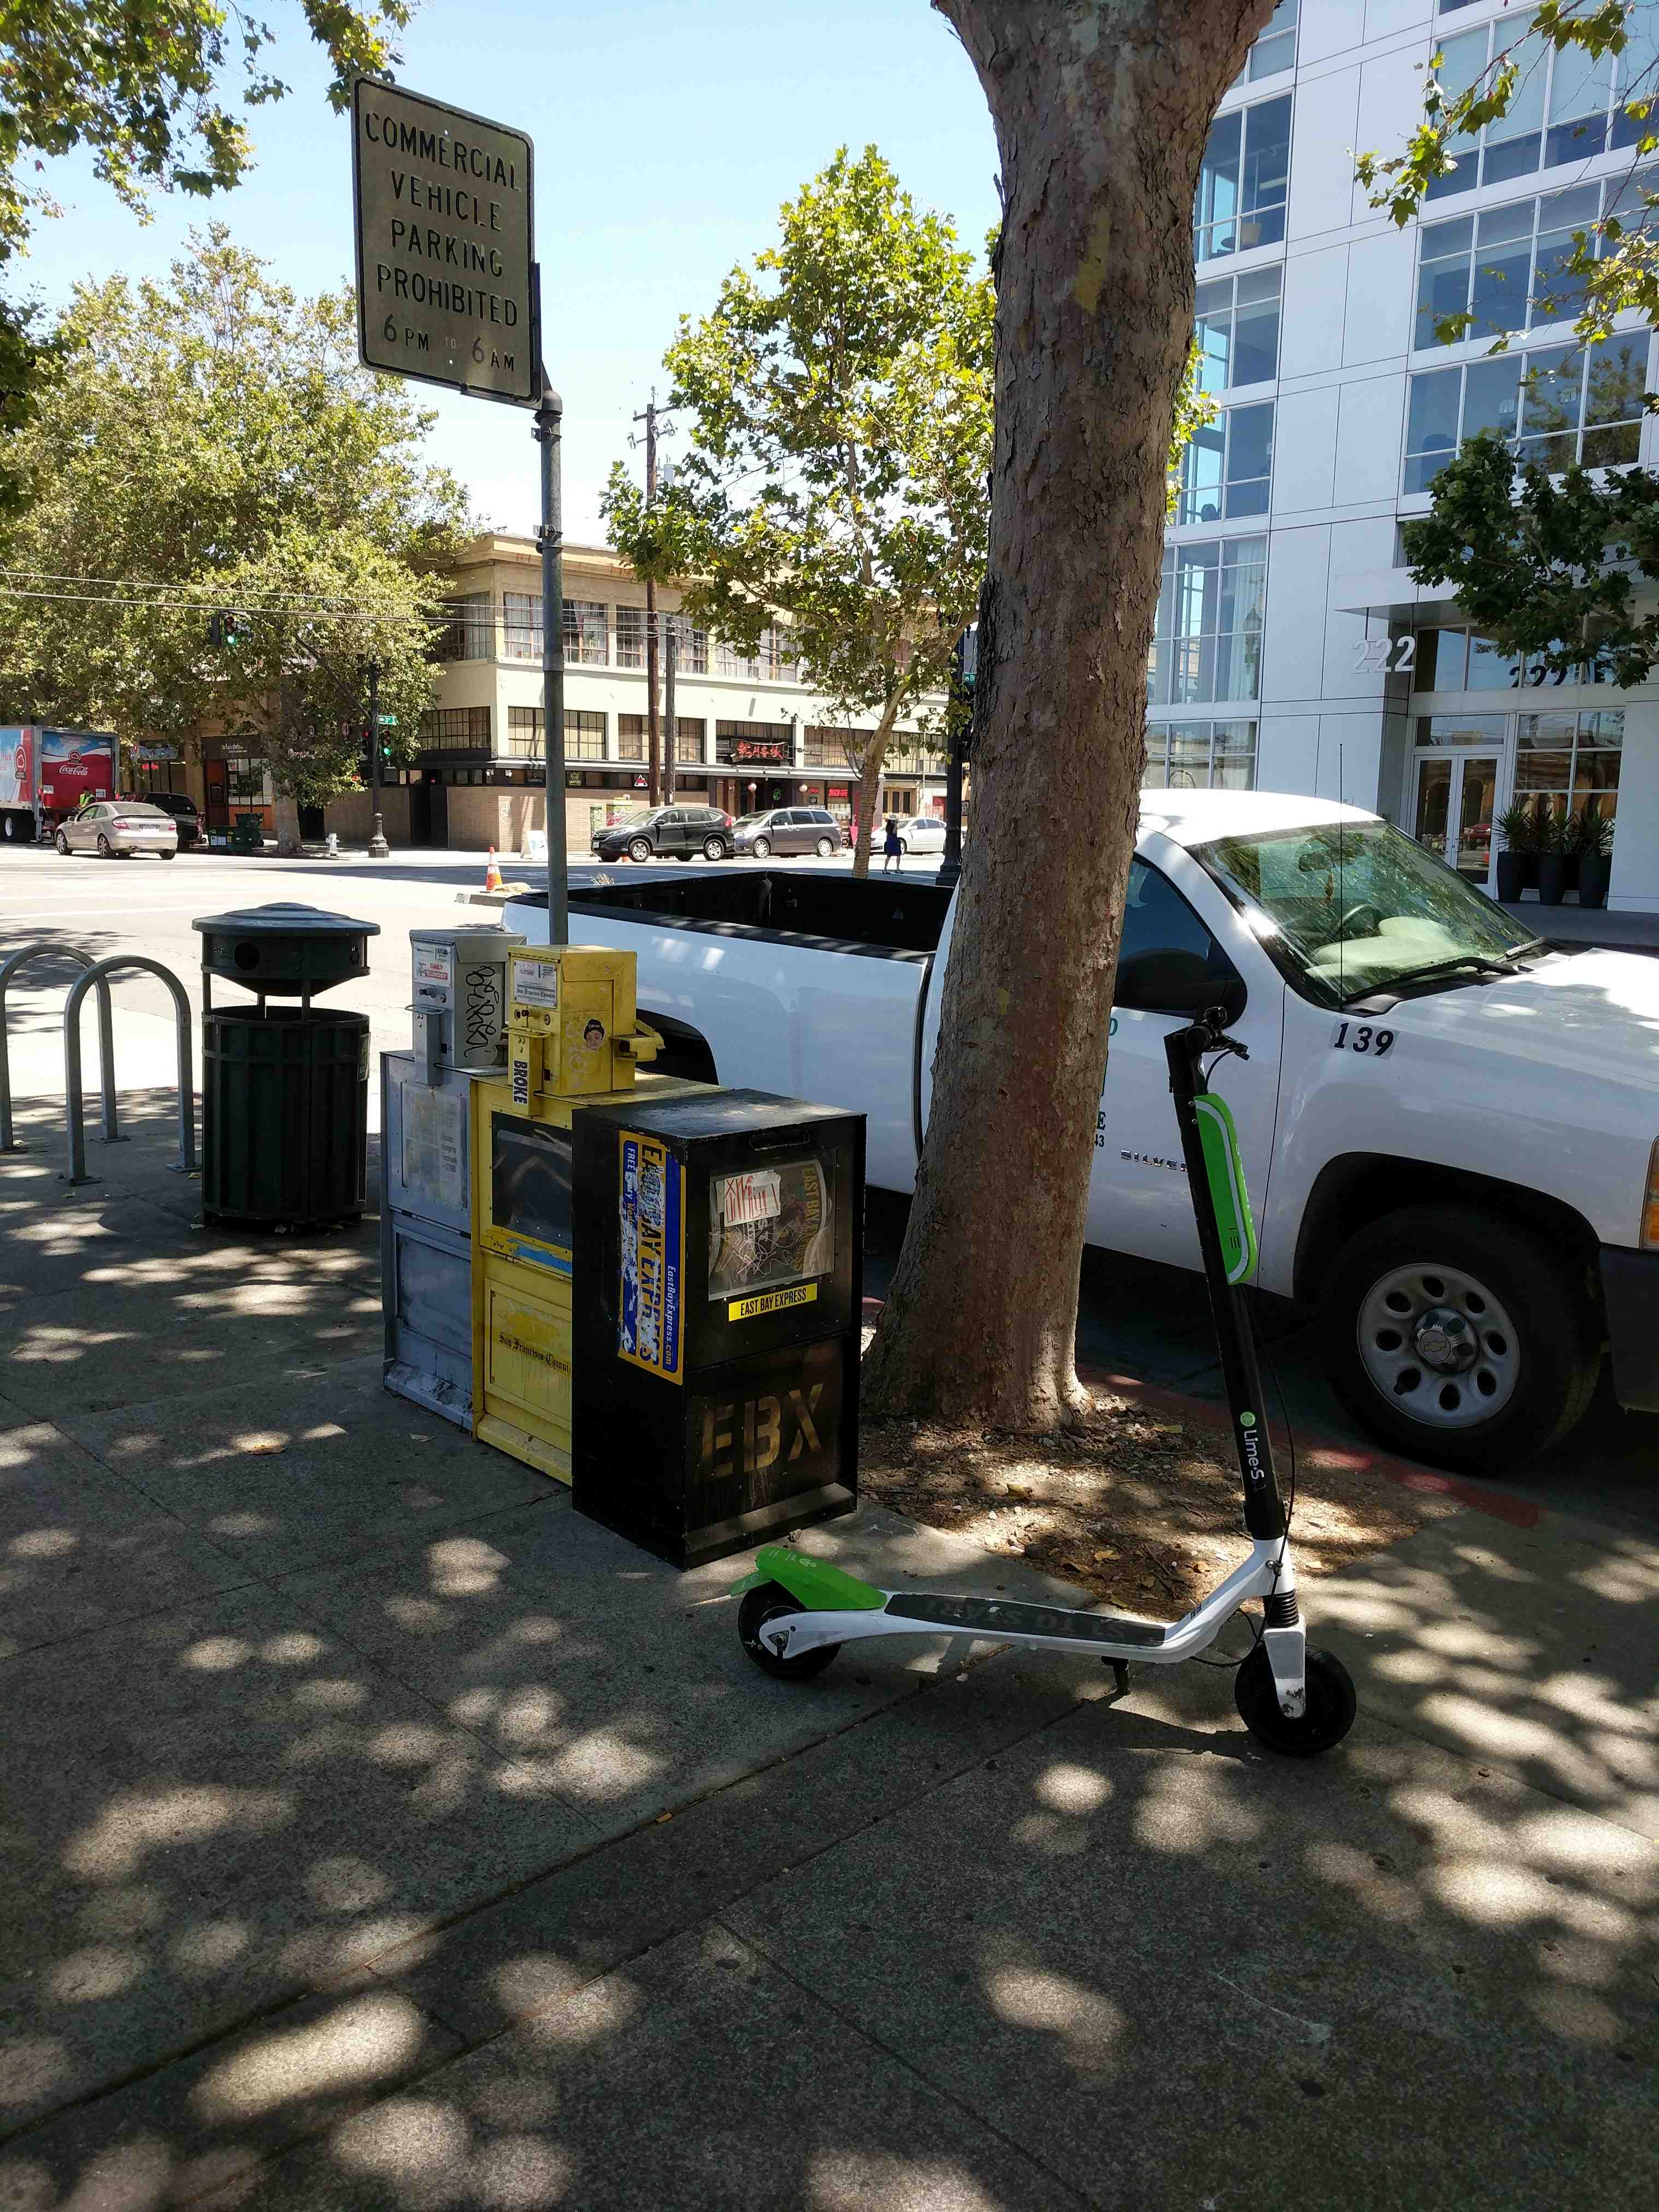scooter: (714, 961, 1370, 1771)
